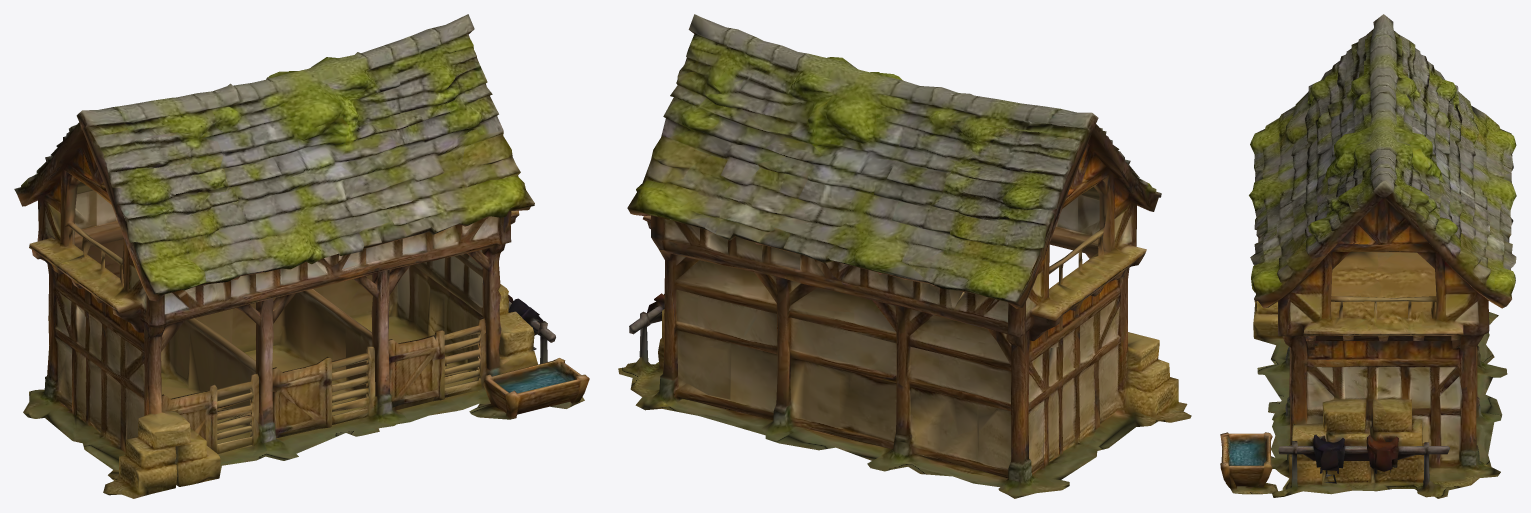
The model's file is town_civic_stable.glb.
The picture shows the model from 3 angles, left to right: view 1: azimuth 30°, elevation 25°; view 2: azimuth 150°, elevation 25°; view 3: azimuth 270°, elevation 25°; orthographic projection. The views are drawn at different scales.
Parts seen in each view (by area): view 1: tripo_node_998d0c67-5796-466b-a6d4-85751bc4ce31; view 2: tripo_node_998d0c67-5796-466b-a6d4-85751bc4ce31; view 3: tripo_node_998d0c67-5796-466b-a6d4-85751bc4ce31.
Boxes of the visible parts, x1,y1,x2,y2 form: tripo_node_998d0c67-5796-466b-a6d4-85751bc4ce31: (14,14,589,498); tripo_node_998d0c67-5796-466b-a6d4-85751bc4ce31: (618,14,1191,498); tripo_node_998d0c67-5796-466b-a6d4-85751bc4ce31: (1220,14,1516,498).
Bounding box in the file's own units: 8.8 × 6 × 5.39.
Materials: 1 (1 with a texture image).
